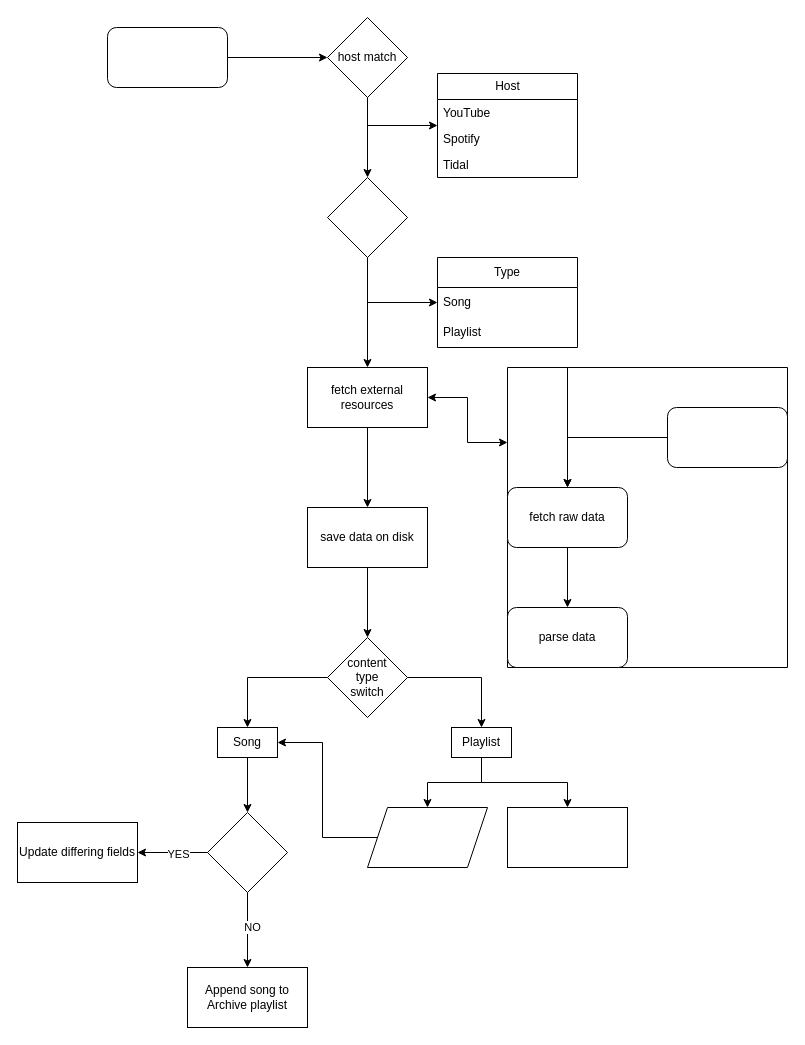
Image size: 805x1045. Some labels were removed from this diagram. The centre of each missing label's shape, as x and y in pixels:
authenticate user: the point at 727,437
content type match: the point at 367,217
for each song in playlist: the point at 427,837
save playlist as file: the point at 567,837
song already exists: the point at 247,852
URL: the point at 167,57
